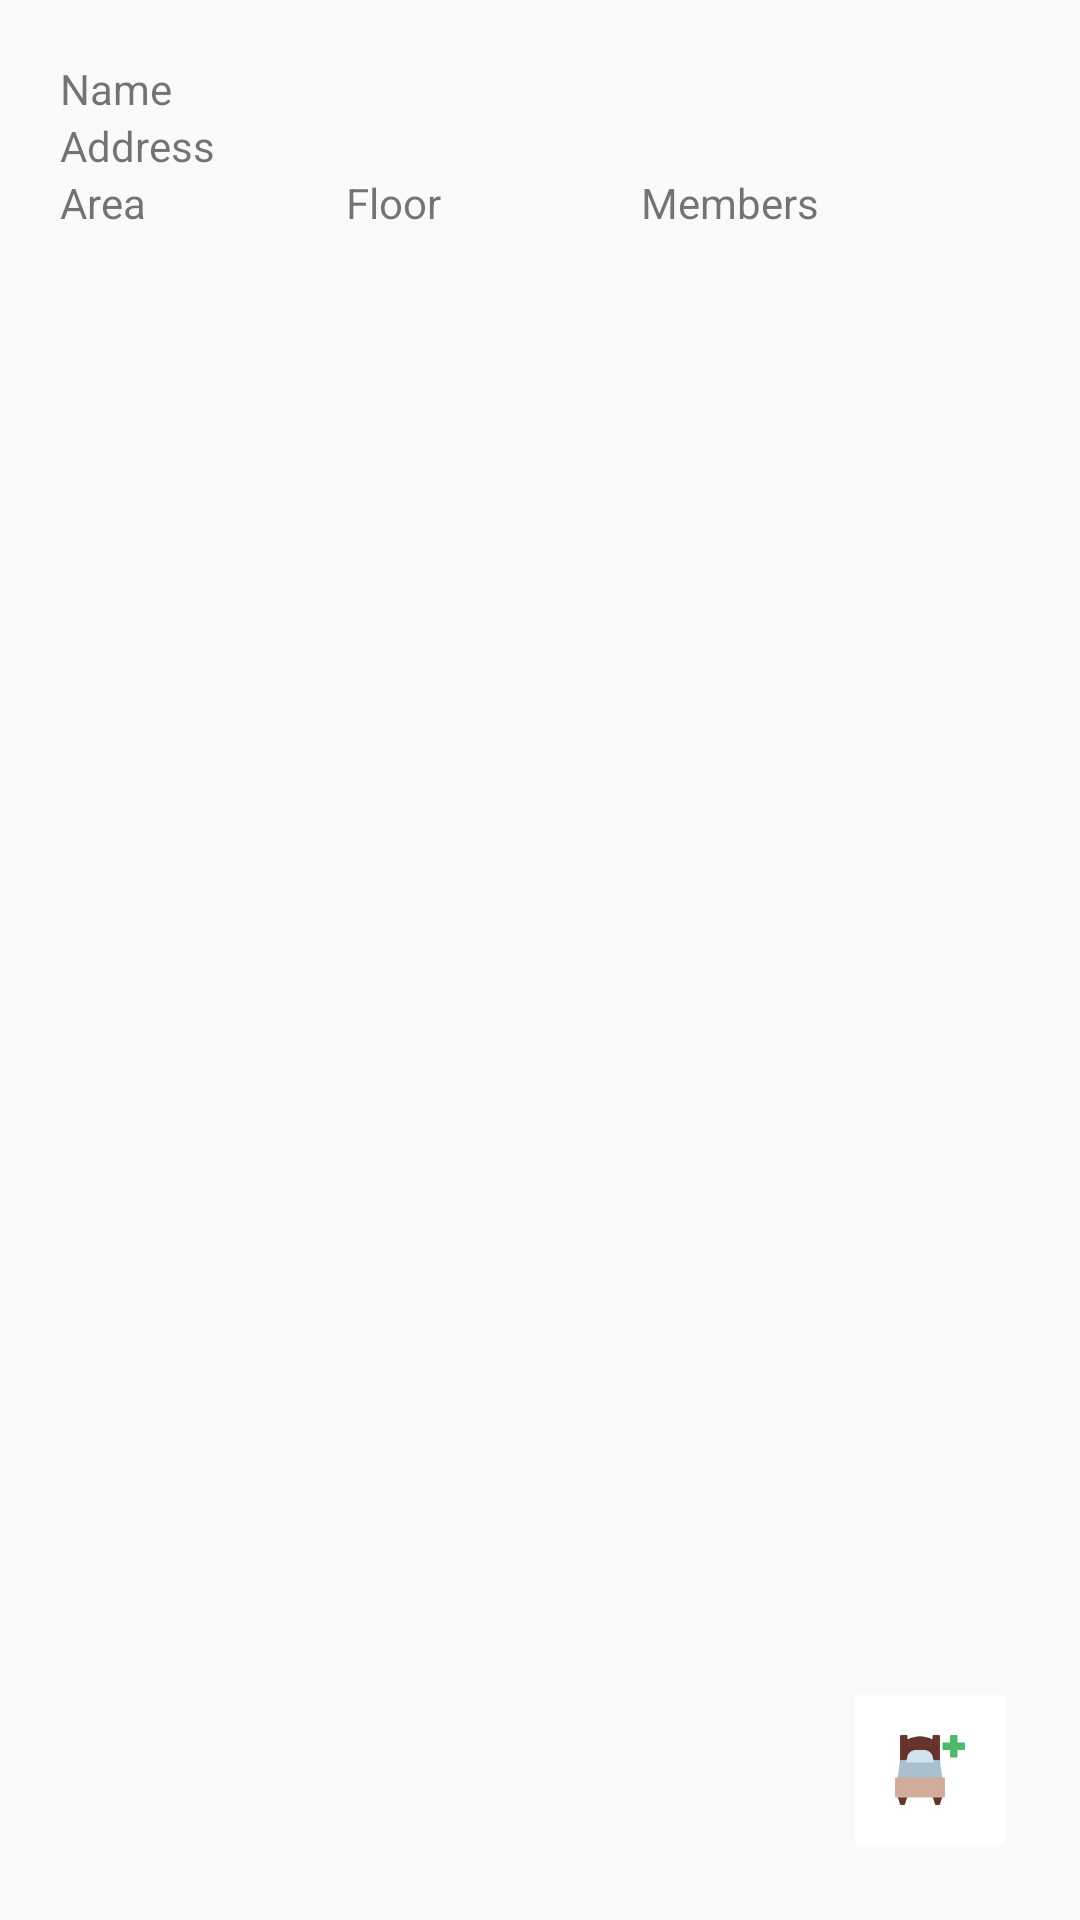

Icon click points for this 1080 × 1920 phone screenshot, format (x,y):
add room: (930,1770)
